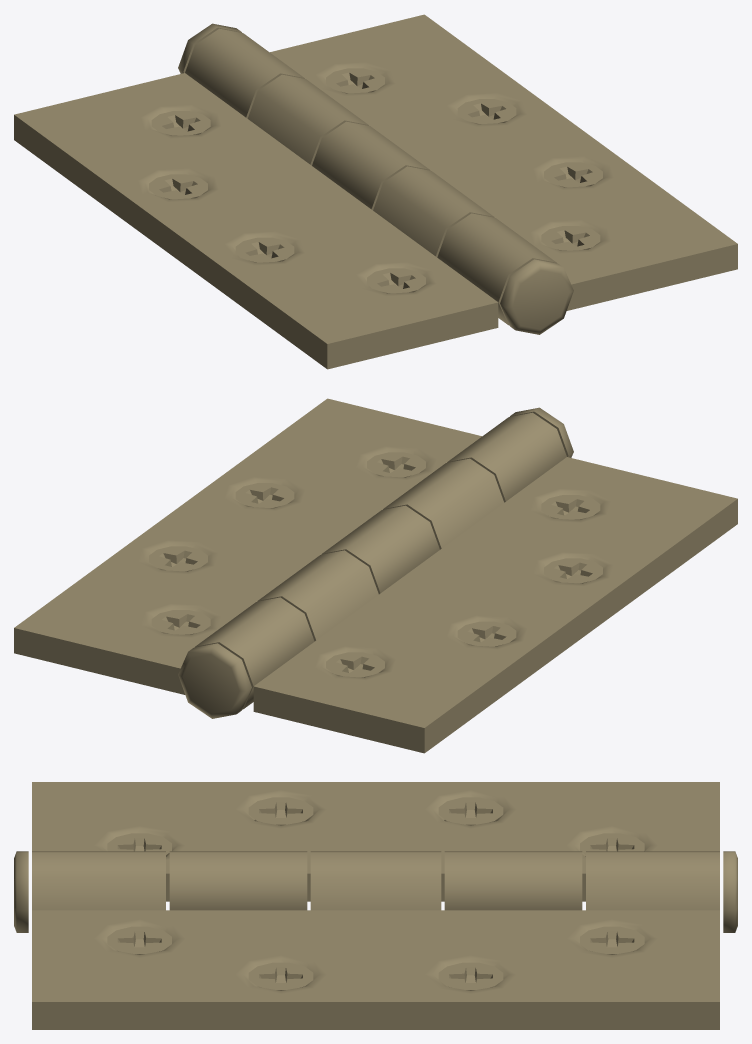
File: Hinge.fbx
3 renders of one model, top to bottom at view 1: azimuth 30°, elevation 25°; view 2: azimuth 150°, elevation 25°; view 3: azimuth 270°, elevation 25°, orthographic. The views are drawn at different scales.
Visible parts, largest first — view 1: LeftHalf, RightHalf; view 2: LeftHalf, RightHalf; view 3: RightHalf, LeftHalf.
Boxes of the visible parts, <box> form: LeftHalf: <box>14,73,498,369</box>; RightHalf: <box>178,14,737,334</box>; LeftHalf: <box>253,457,737,753</box>; RightHalf: <box>14,398,573,718</box>; RightHalf: <box>14,851,737,1029</box>; LeftHalf: <box>32,782,719,910</box>.
Size of the model in its own units: 151 by 25.28 by 210.
